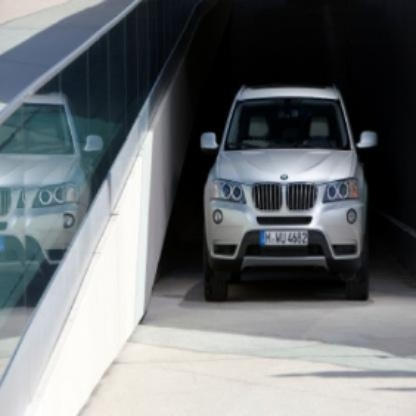Vehicle: (199, 82, 382, 307)
